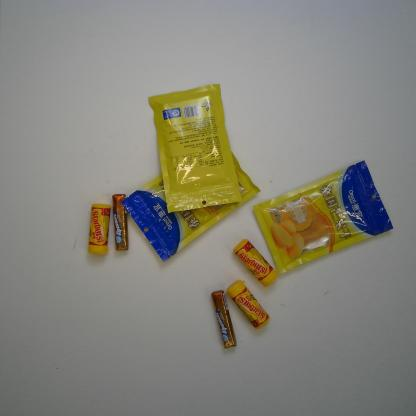Candy: (232, 238, 279, 289), (226, 279, 270, 330), (211, 290, 237, 349), (87, 204, 112, 256), (112, 193, 130, 251)
Dried Fruit: (121, 142, 262, 263), (252, 159, 395, 274), (148, 83, 243, 214)
